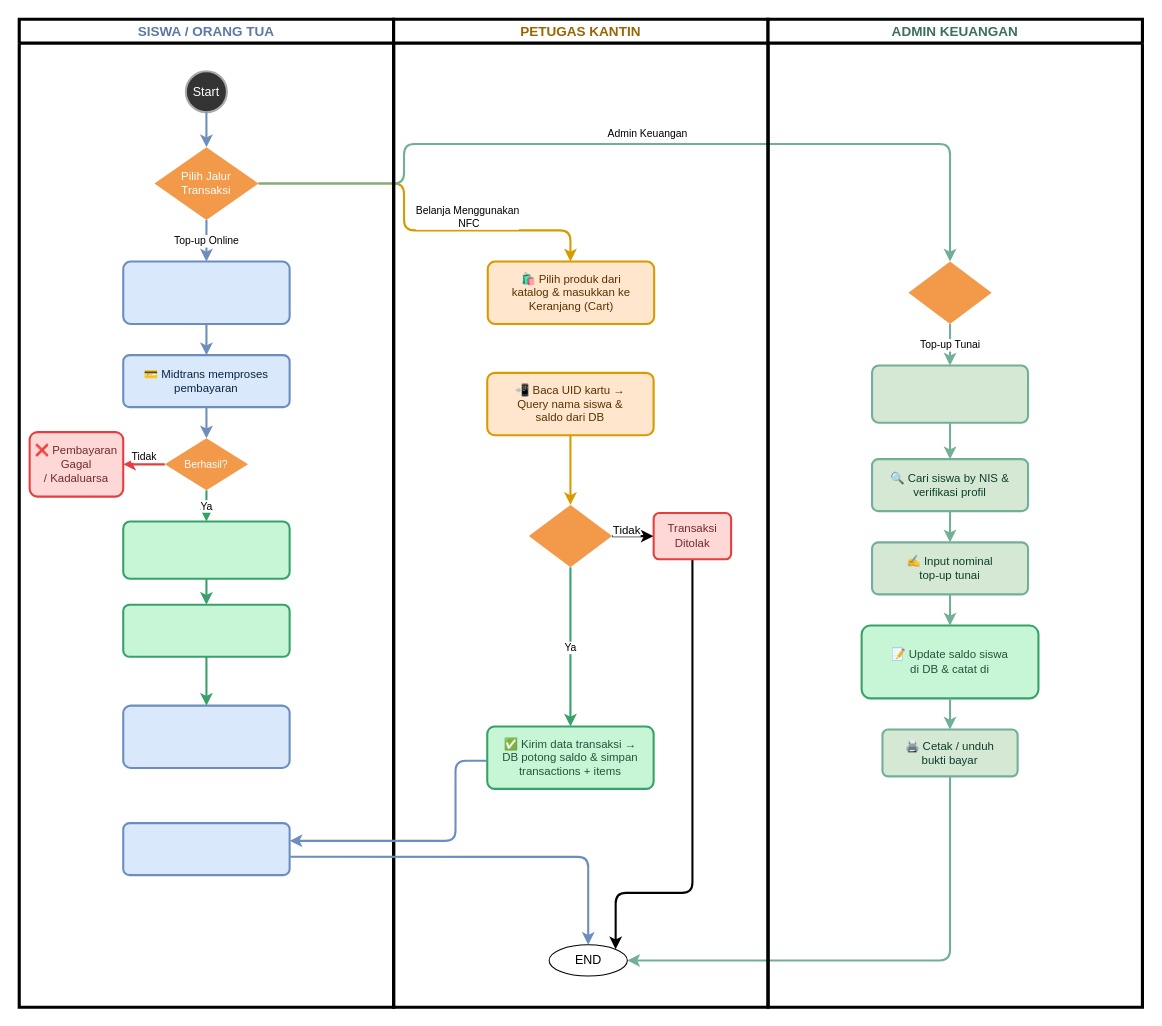
Some shapes in this 1162 by 1026 pixel diagram are drawn without their labels. The shapes that lost their labels are listed below. From the top down, each one's centre as x and y in pixels, then its label:
(x=206, y=292): 📱 Pilih nominal top-up & bayar via Midtrans (VA / QRIS / E-Wallet)
(x=949, y=292): Jenis Aksi?
(x=949, y=393): 💵 Terima uang tunai dari siswa/ortu via koperasi
(x=206, y=549): ✅ Webhook → Update saldo DB & catat di transactions
(x=570, y=535): ⚖️ Saldo ≥ Total?
(x=206, y=630): 🔔 Push Notification ke HP Siswa (FCM)
(x=206, y=736): 🪪 Siswa tap kartu NFC/RFID di HP Petugas Kantin
(x=206, y=849): 📩 Terima Push Notif jajan sukses di HP
